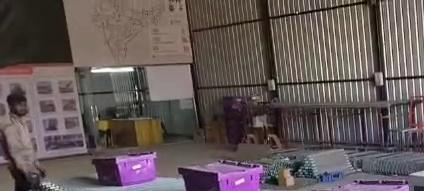box: (178, 161, 262, 190), (92, 152, 155, 185), (316, 180, 408, 190)
